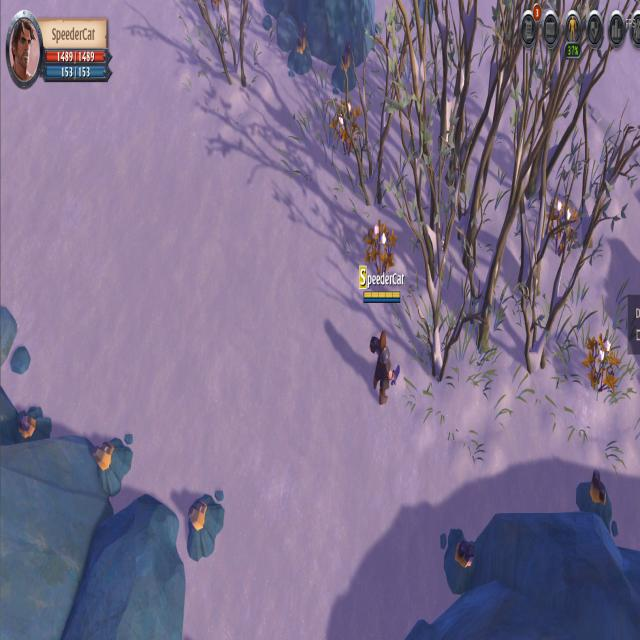copper: (184, 492, 226, 562), (575, 468, 617, 535), (443, 521, 480, 595), (91, 436, 133, 496), (15, 399, 53, 453), (328, 41, 359, 95), (289, 21, 315, 78)
cotton: (584, 329, 620, 402), (362, 222, 398, 280), (327, 97, 362, 155), (549, 197, 579, 262)
